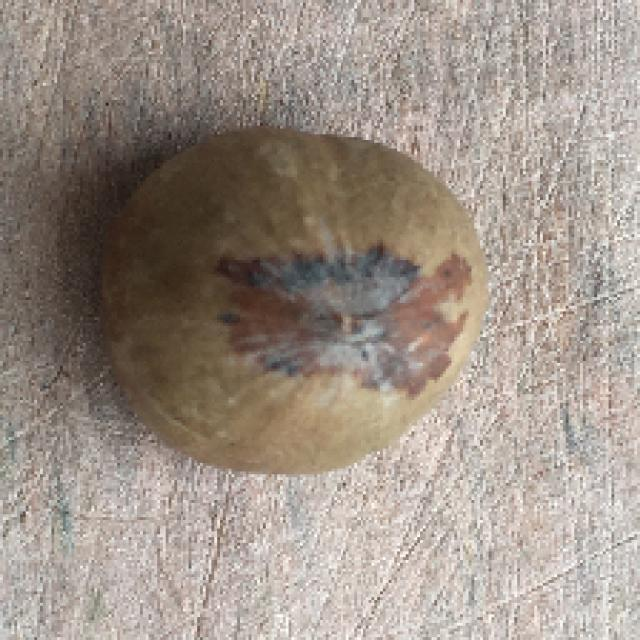damagedHazelnut: (91, 118, 493, 490)
